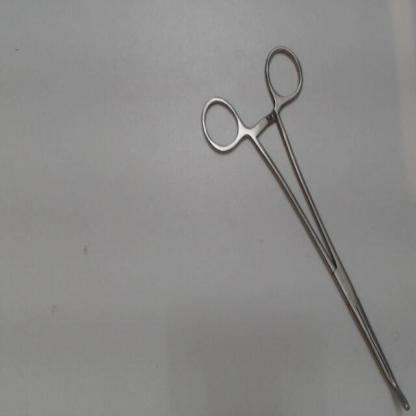Lahey Forceps: (194, 40, 415, 412)
